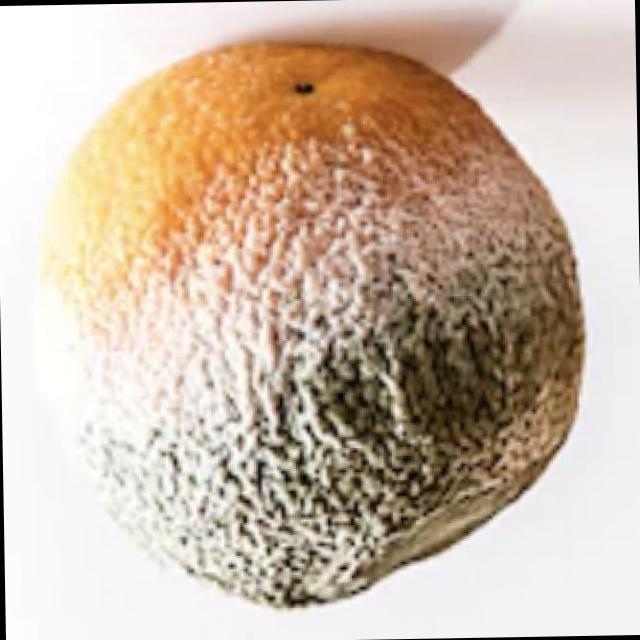rotten orange: (38, 38, 586, 610)
